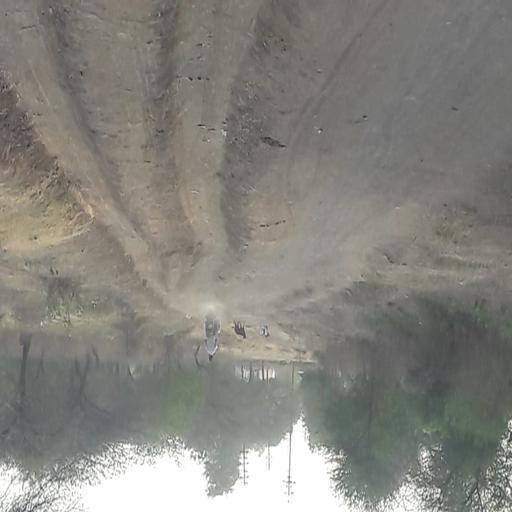vehicle_track: (238, 0, 512, 302), (0, 0, 165, 301), (174, 0, 262, 292)
